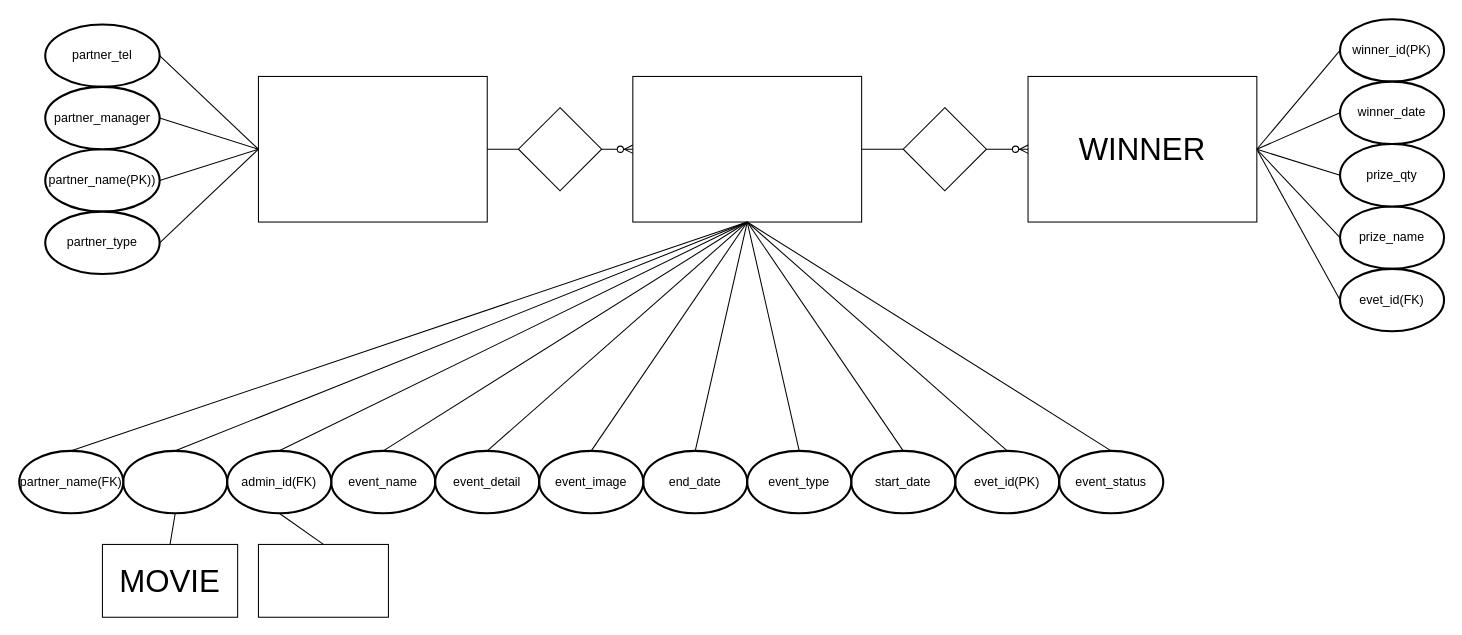
This 1462x635 diagram has some shape labels left out. The shapes that lost their labels are listed below. From the top down, each one's centre as x and y in pixels, then its label:
At (x=372, y=148): "PARTNER".
At (x=559, y=149): "연계".
At (x=747, y=148): "EVENT".
At (x=944, y=149): "당첨".
At (x=175, y=481): "movie_id(FK)".
At (x=322, y=580): "USER".
